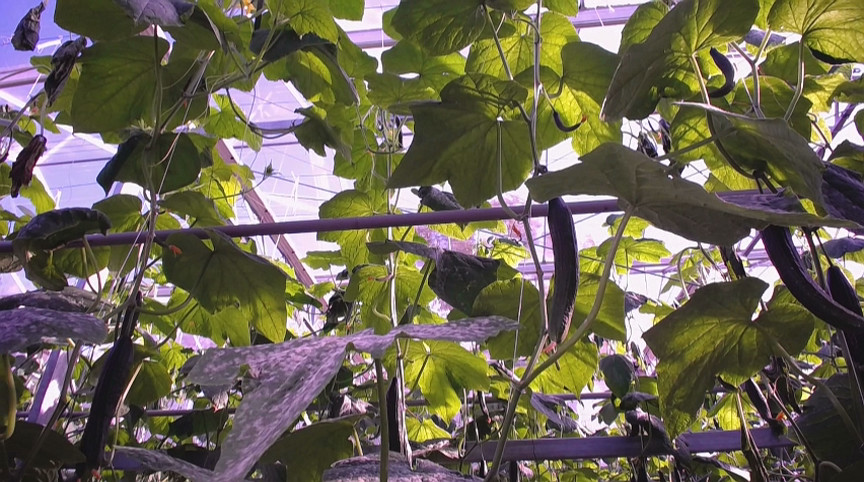cucumber: (760, 227, 864, 331), (86, 334, 136, 468), (548, 194, 580, 346), (824, 267, 864, 369), (386, 378, 403, 455)
